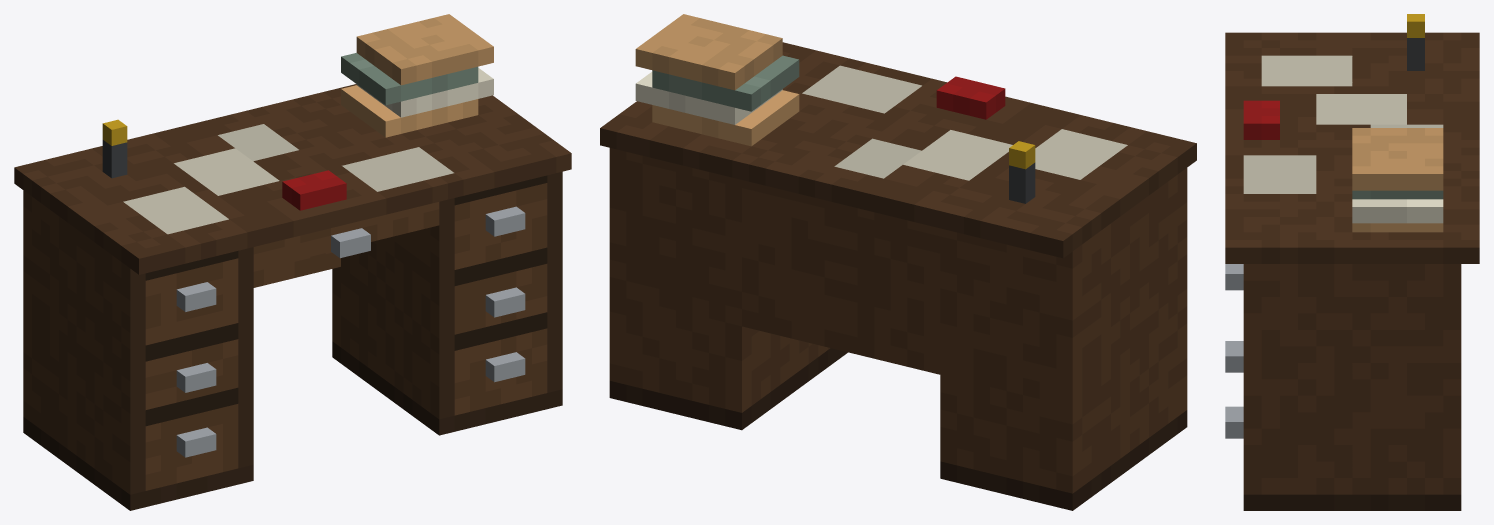
Rendered from bureau.glb.
3 views of the same model, side by side, from view 1: azimuth 30°, elevation 25°; view 2: azimuth 150°, elevation 25°; view 3: azimuth 270°, elevation 25° (orthographic). The views are drawn at different scales.
Visible parts, largest first — view 1: voxel__bureau__block; view 2: voxel__bureau__block; view 3: voxel__bureau__block.
Boxes of the visible parts, x1=… form: voxel__bureau__block: x1=14, y1=14, x2=571, y2=510; voxel__bureau__block: x1=600, y1=14, x2=1196, y2=510; voxel__bureau__block: x1=1225, y1=14, x2=1479, y2=510.
Bounding box in the file's own units: 1.4 × 1 × 0.7.
